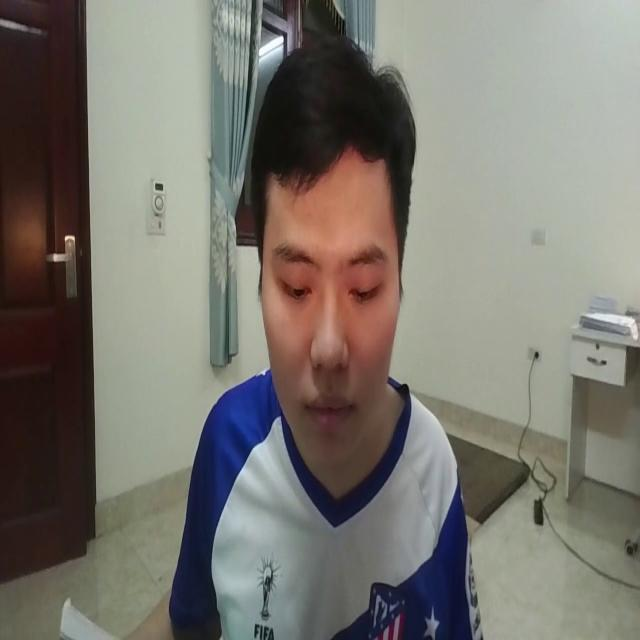student: (168, 22, 492, 640)
